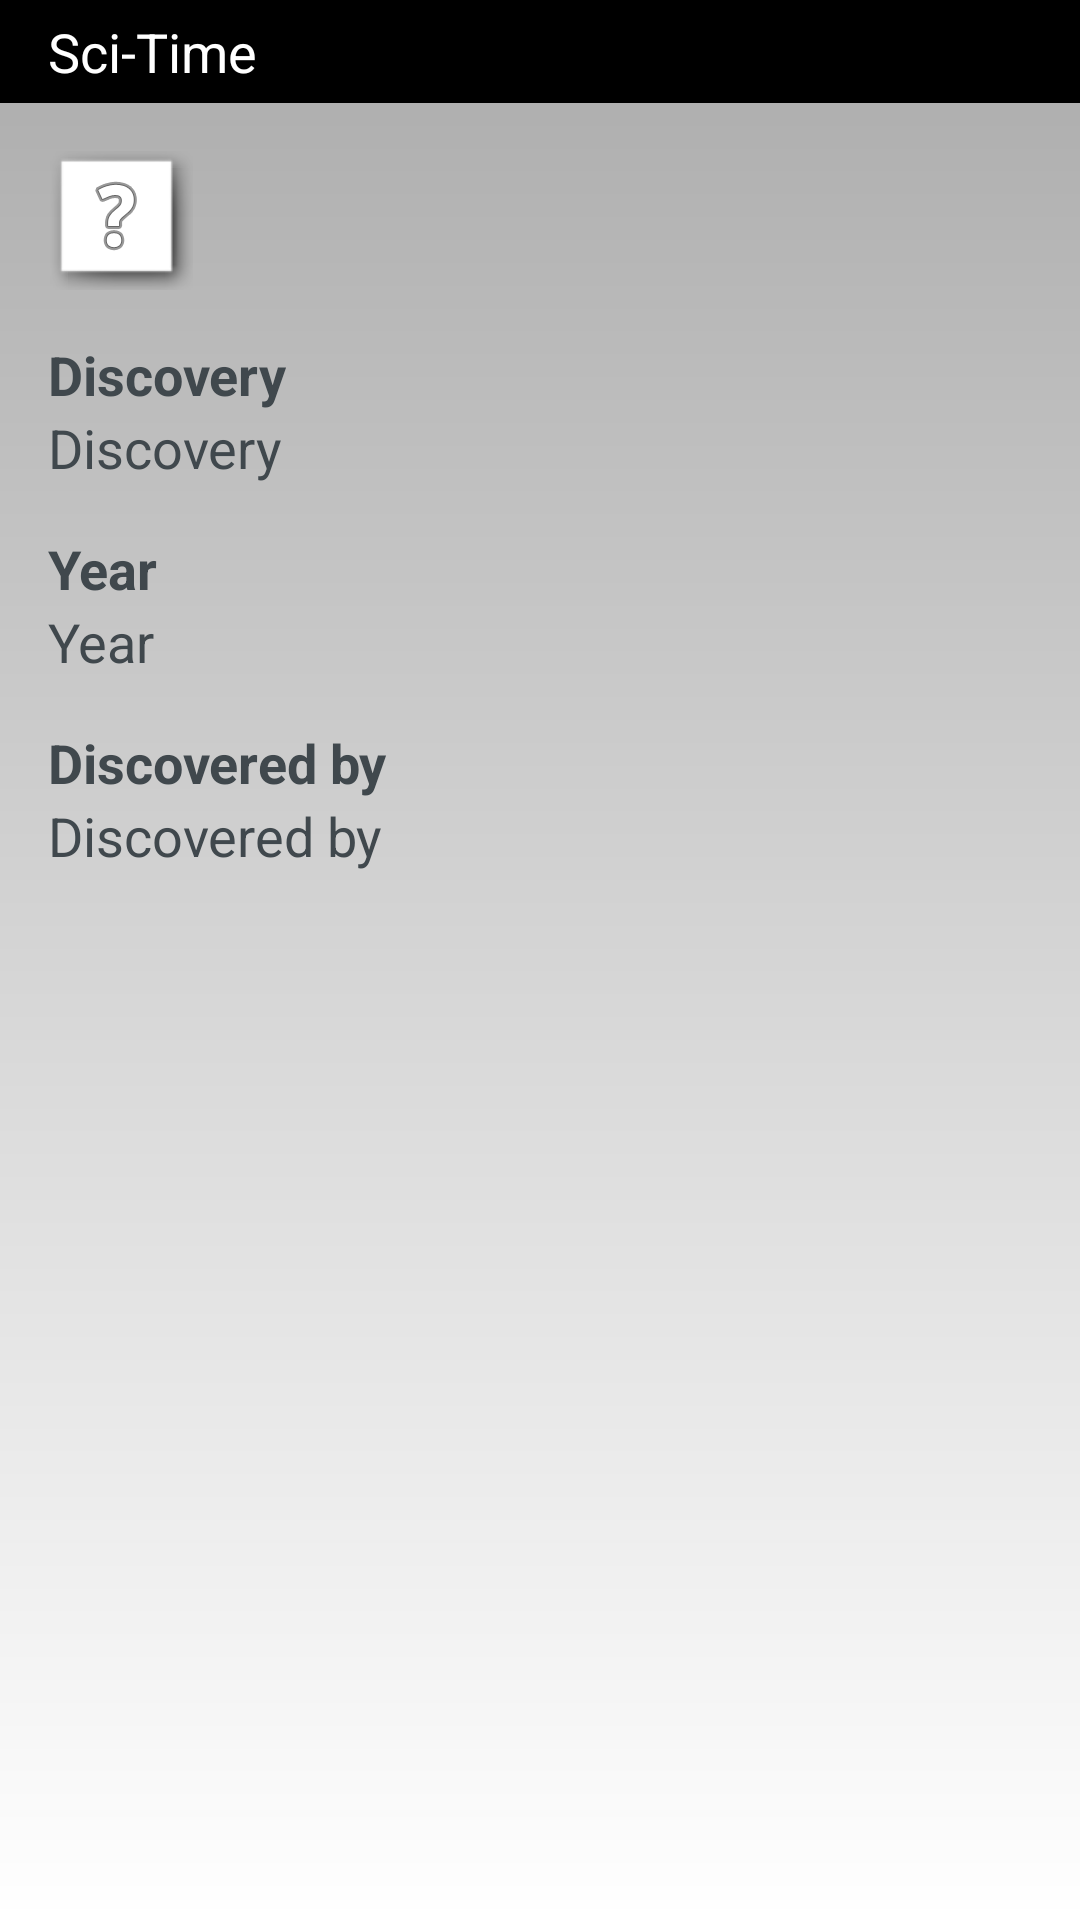

Icon bounding boxes for this 1080 x 1920 phone screenshot, format (x1, y1, x2, y2):
help: (61, 161, 185, 283)
